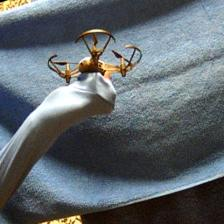drone: (47, 29, 144, 83)
